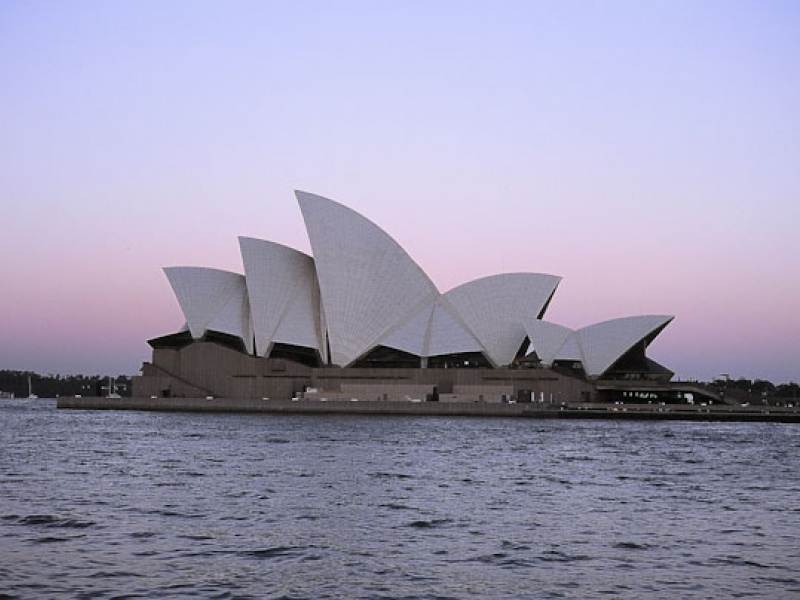opera house: (102, 172, 692, 403)
